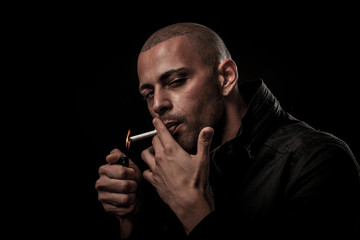cigarette: (126, 128, 160, 143)
